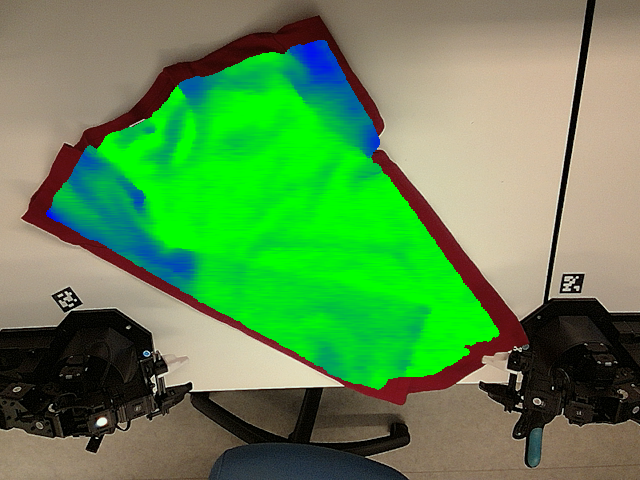V: (400, 289, 439, 332)
